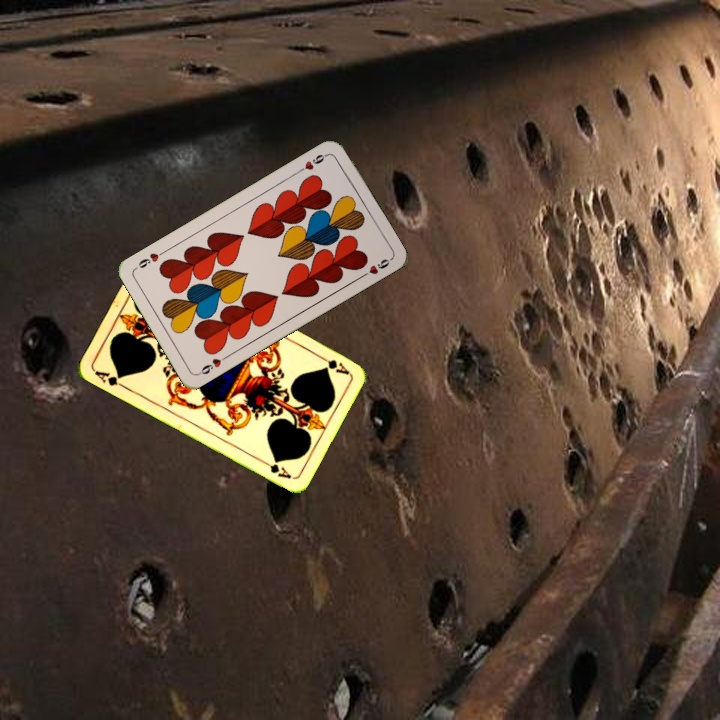GA: (314, 351, 352, 377), (90, 366, 129, 391)
H9: (194, 351, 231, 377), (294, 150, 331, 176)
